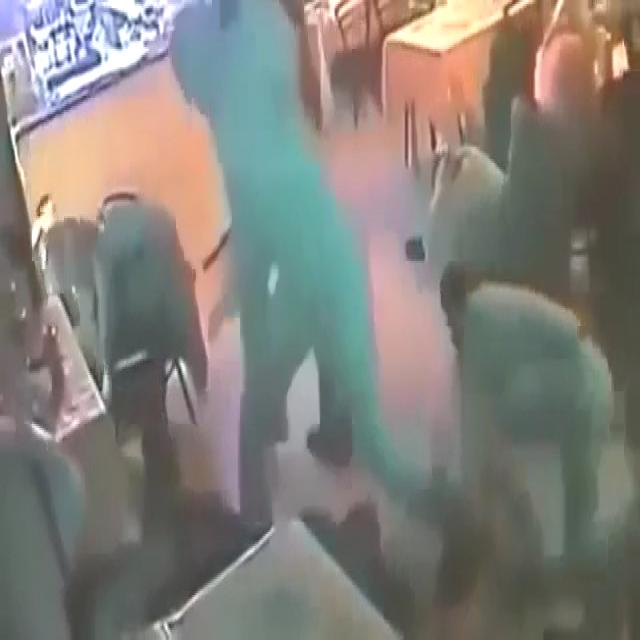fight: (39, 4, 344, 374)
